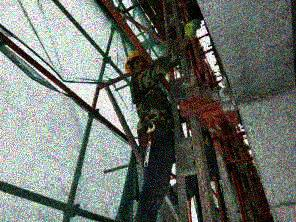helmet: (124, 50, 150, 75)
